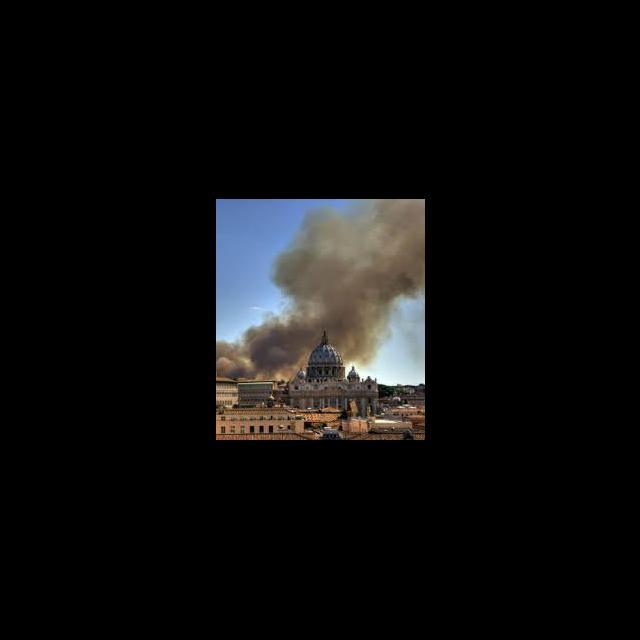Smoke: (216, 200, 424, 375)
